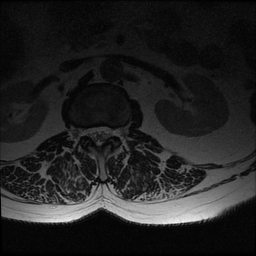CCS_normal: (95, 120, 103, 155)
LFS_normal: (112, 124, 118, 141)
LLS_normal: (103, 121, 111, 146)
RFS_normal: (81, 121, 88, 142)
RLS_normal: (88, 121, 96, 146)
